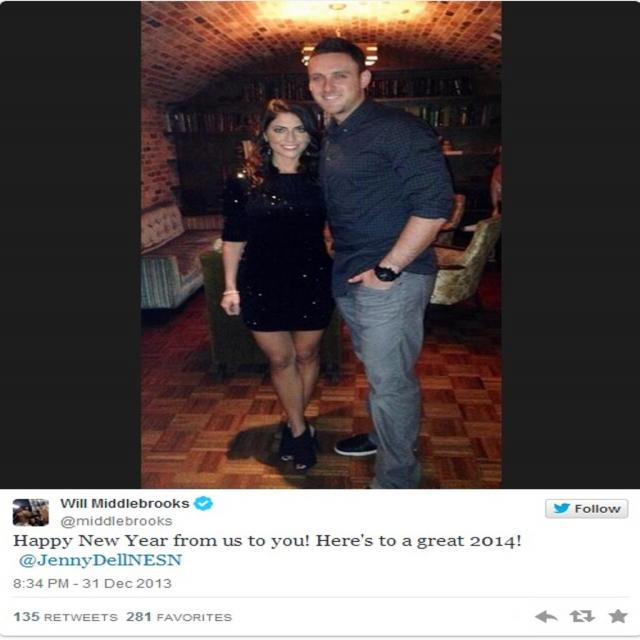nomask: (309, 58, 359, 112), (268, 107, 314, 159)
